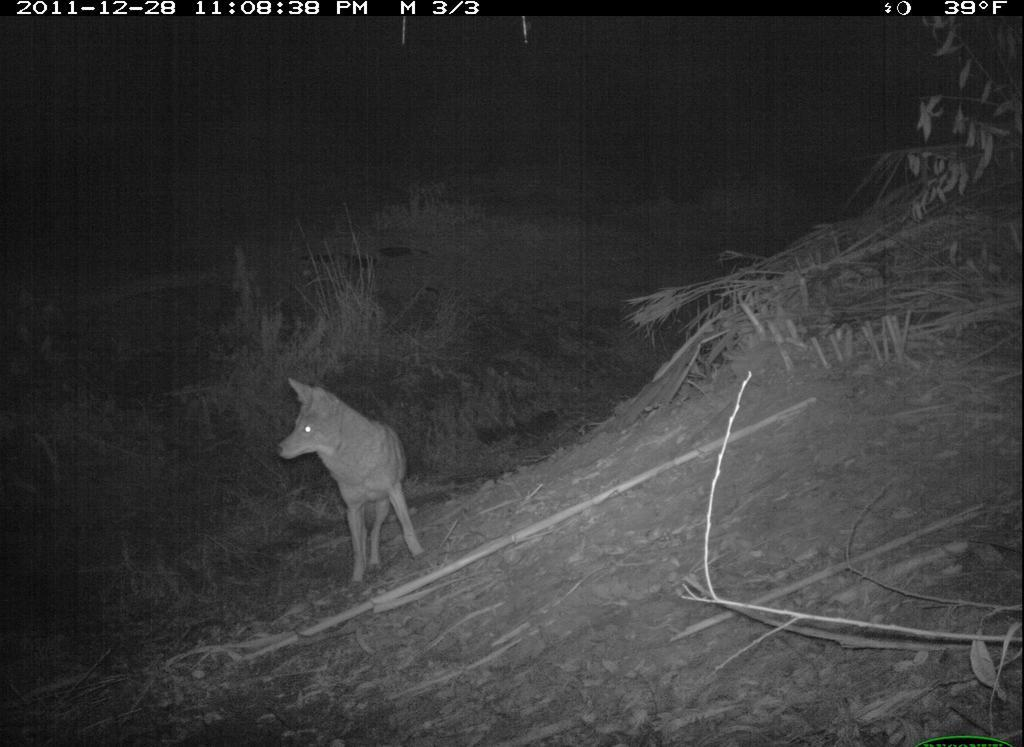coyote: (272, 370, 437, 594)
